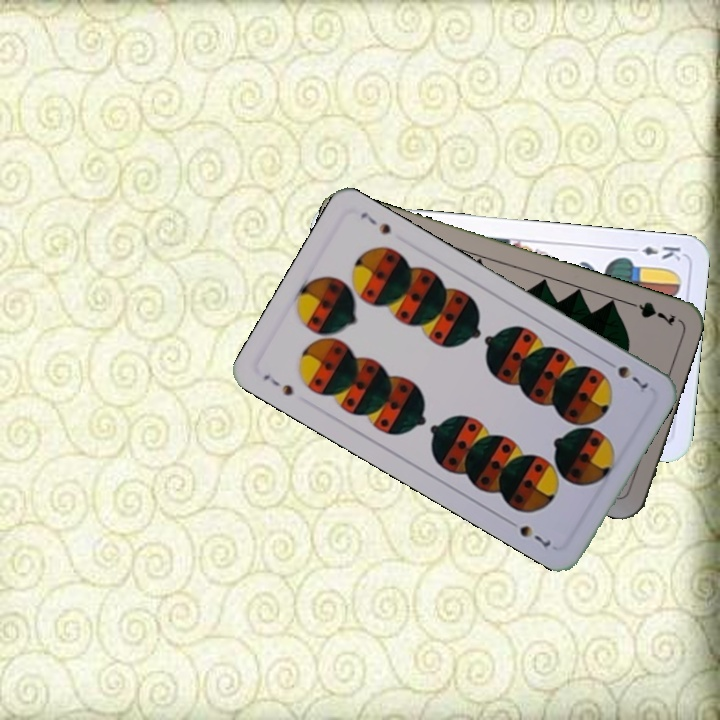EK: (625, 242, 684, 263)
G7: (621, 296, 678, 329)
S7: (600, 355, 651, 392), (259, 370, 296, 399)
